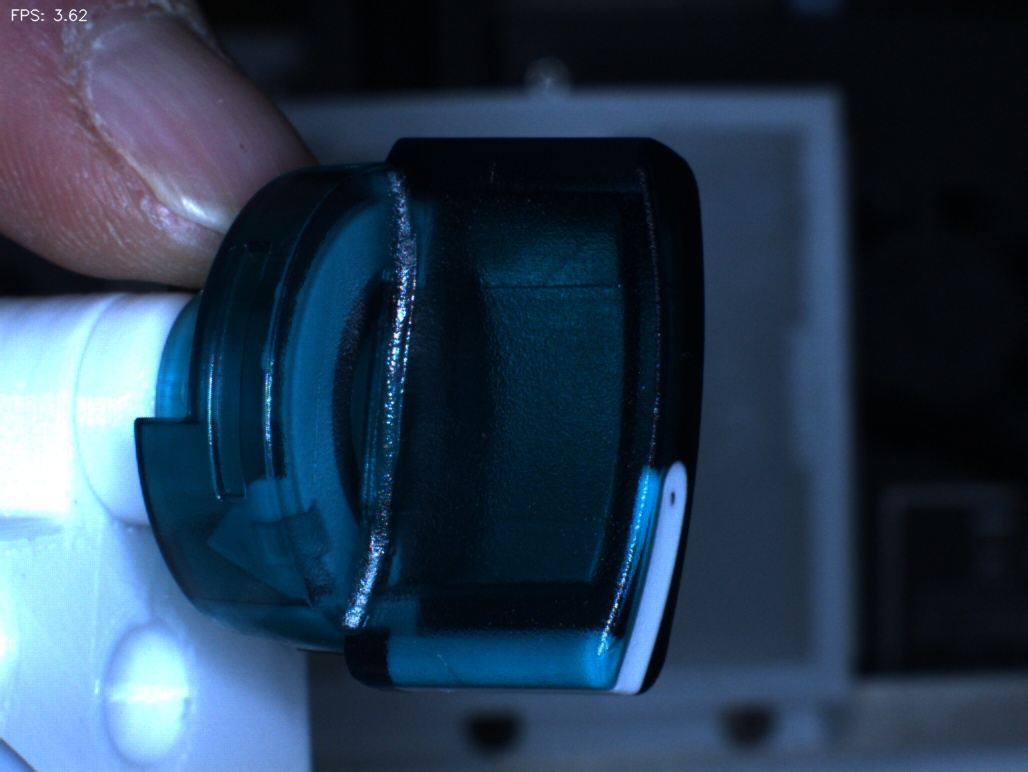PointNoir: (637, 452, 717, 540)
